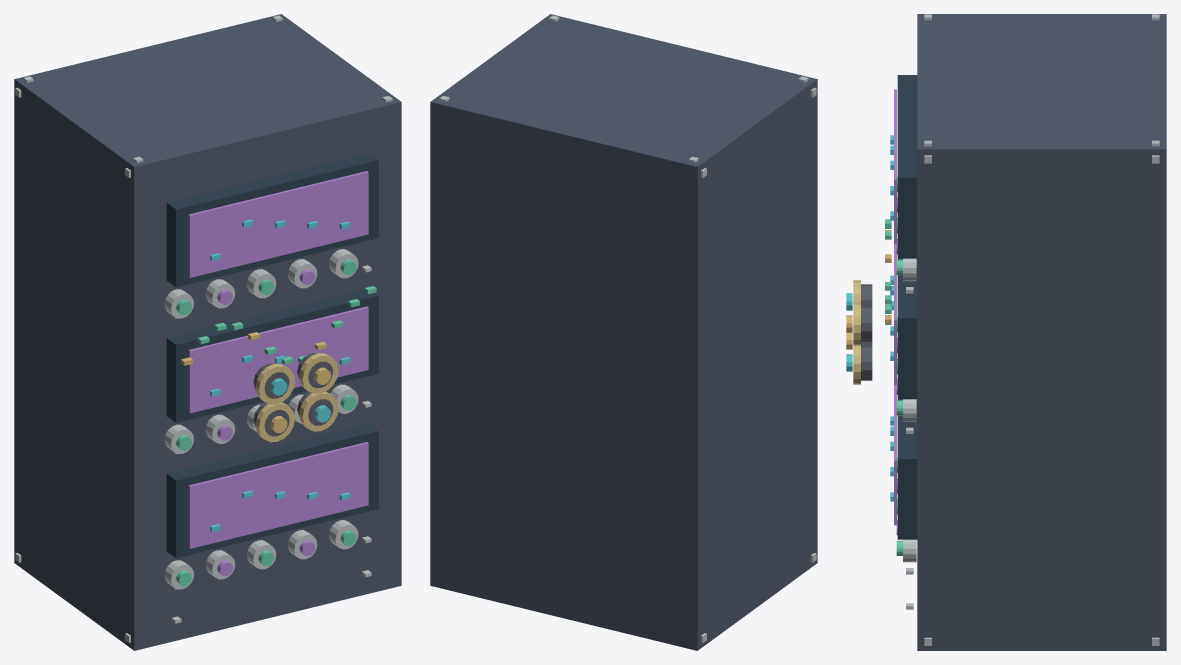
File: 45_L82_ProtectedRFAmplifier.glb
The picture shows the model from 3 angles, left to right: view 1: azimuth 30°, elevation 25°; view 2: azimuth 150°, elevation 25°; view 3: azimuth 270°, elevation 25°; orthographic projection. The views are drawn at different scales.
Visible parts, largest first — view 1: ProtectedRFAmplifier_Node_0000, ProtectedRFAmplifier_Node_0010, ProtectedRFAmplifier_Node_0044, ProtectedRFAmplifier_Node_0027, ProtectedRFAmplifier_Node_0009, ProtectedRFAmplifier_Node_0043, ProtectedRFAmplifier_Node_0026, ProtectedRFAmplifier_Node_0116, ProtectedRFAmplifier_Node_0113, ProtectedRFAmplifier_Node_0110, ProtectedRFAmplifier_Node_0107; view 2: ProtectedRFAmplifier_Node_0000; view 3: ProtectedRFAmplifier_Node_0000, ProtectedRFAmplifier_Node_0009, ProtectedRFAmplifier_Node_0043, ProtectedRFAmplifier_Node_0026, ProtectedRFAmplifier_Node_0010.
Boxes of the visible parts, x1=… form: ProtectedRFAmplifier_Node_0000: x1=14, y1=14, x2=401, y2=650; ProtectedRFAmplifier_Node_0010: x1=188, y1=171, x2=368, y2=277; ProtectedRFAmplifier_Node_0044: x1=188, y1=442, x2=368, y2=548; ProtectedRFAmplifier_Node_0027: x1=188, y1=306, x2=368, y2=413; ProtectedRFAmplifier_Node_0009: x1=166, y1=153, x2=378, y2=287; ProtectedRFAmplifier_Node_0043: x1=166, y1=424, x2=378, y2=558; ProtectedRFAmplifier_Node_0026: x1=166, y1=290, x2=378, y2=422; ProtectedRFAmplifier_Node_0116: x1=299, y1=353, x2=338, y2=393; ProtectedRFAmplifier_Node_0113: x1=255, y1=364, x2=294, y2=404; ProtectedRFAmplifier_Node_0110: x1=299, y1=391, x2=338, y2=431; ProtectedRFAmplifier_Node_0107: x1=255, y1=402, x2=294, y2=442; ProtectedRFAmplifier_Node_0000: x1=430, y1=14, x2=817, y2=650; ProtectedRFAmplifier_Node_0000: x1=917, y1=14, x2=1166, y2=650; ProtectedRFAmplifier_Node_0009: x1=897, y1=75, x2=917, y2=258; ProtectedRFAmplifier_Node_0043: x1=897, y1=399, x2=917, y2=539; ProtectedRFAmplifier_Node_0026: x1=897, y1=258, x2=917, y2=399; ProtectedRFAmplifier_Node_0010: x1=894, y1=89, x2=896, y2=244.
Size of the model in its own units: 1.06 by 1.82 by 1.04.
